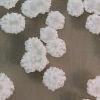white: (0, 12, 26, 36), (43, 66, 66, 92), (45, 38, 68, 58), (0, 72, 15, 100), (45, 10, 65, 30), (22, 0, 40, 20), (19, 52, 36, 73), (66, 0, 84, 19), (39, 27, 59, 44), (32, 54, 49, 72), (85, 15, 100, 35), (31, 0, 52, 14), (85, 78, 100, 97), (23, 37, 43, 51), (83, 0, 100, 15), (29, 49, 46, 62), (0, 0, 18, 10)
